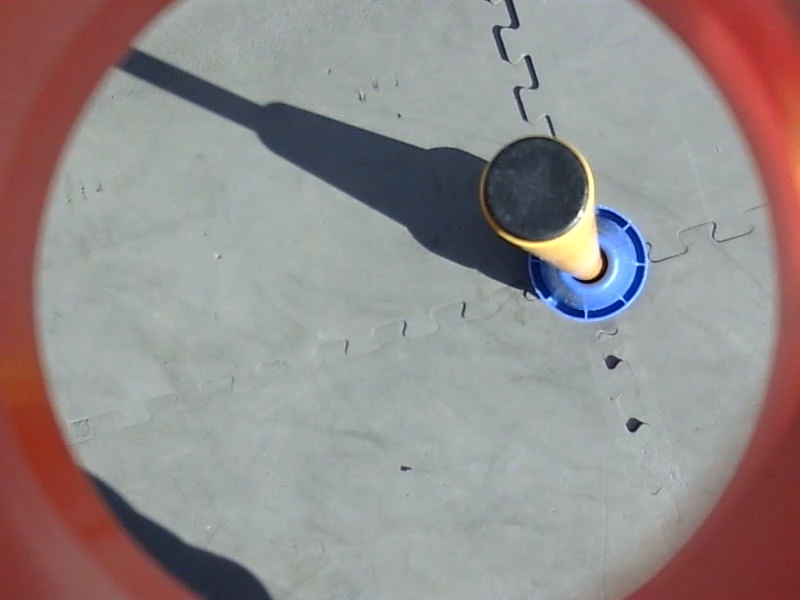tip: (474, 132, 600, 252)
